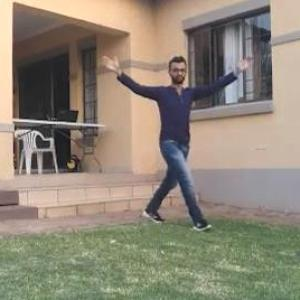takeoff: (88, 54, 243, 228)
